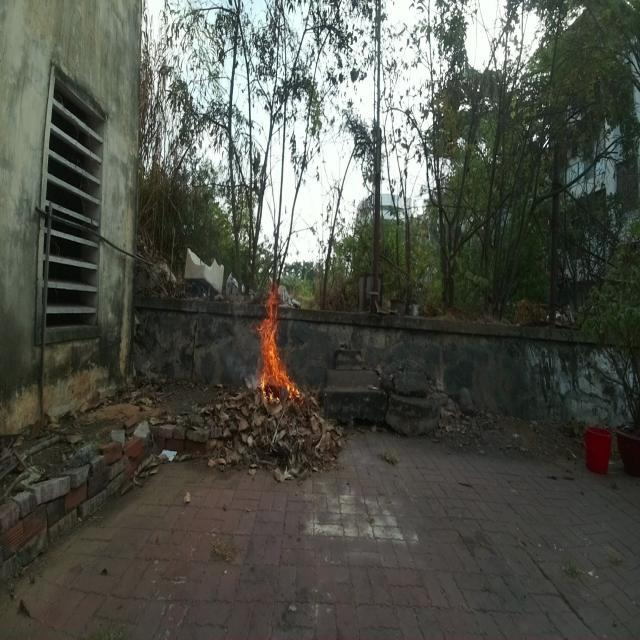Fire: (252, 282, 302, 411)
